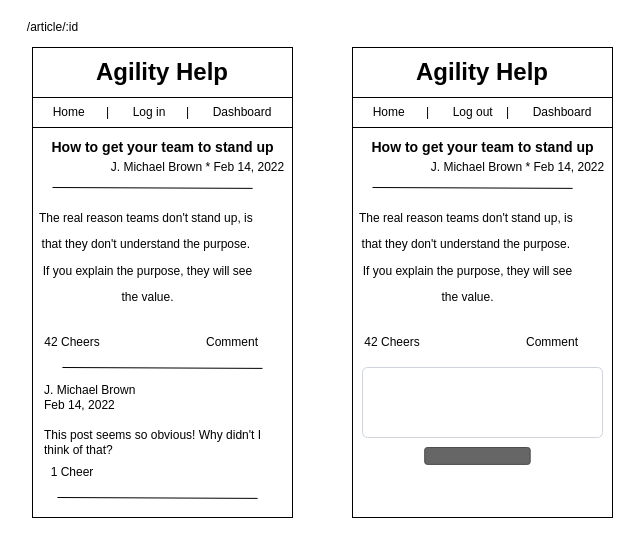
The diagram is 630 pixels wide and 535 high, and some of its shapes have lost their labels. The centre of each missing label's shape, as x and y in pixels:
"Post" goes at point (477, 455).
"Thanks for this." goes at point (482, 402).
